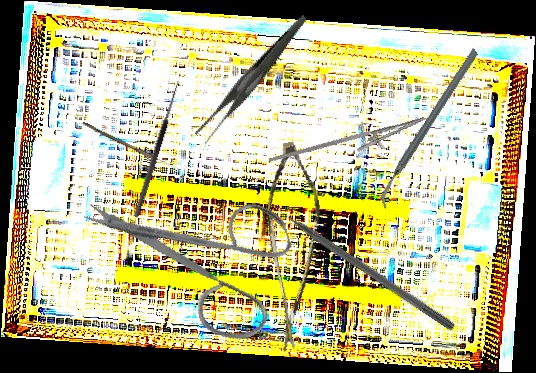Chopper: (337, 46, 522, 211)
Dressing Forceps: (171, 14, 335, 147)
Hook Surgical: (126, 78, 182, 218)
Iris Scissors: (80, 150, 314, 373)
Micro Scissor: (243, 138, 347, 356)
Needle Holder: (268, 98, 430, 192)
Pusher: (260, 193, 458, 333)
Surgical Spoon: (81, 121, 181, 172)
